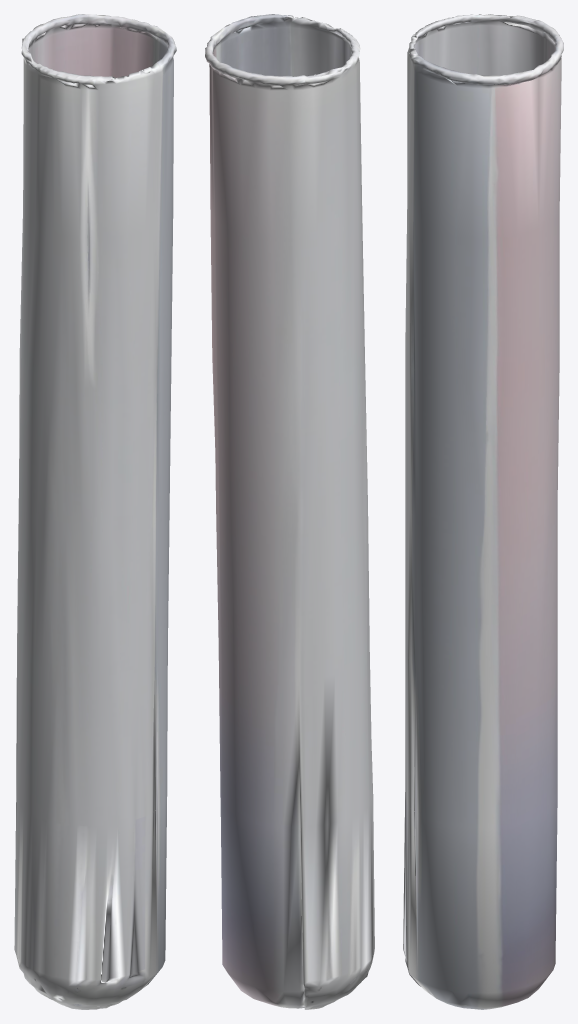
The model's file is sharp-pointed_glass_tubing_1778824304.glb.
3 views of the same model, side by side, from view 1: azimuth 30°, elevation 25°; view 2: azimuth 150°, elevation 25°; view 3: azimuth 270°, elevation 25° (orthographic).
Parts seen in each view (by area): view 1: tripo_node_88a2155e-dc40-4c22-8534-7c9bc1d95906; view 2: tripo_node_88a2155e-dc40-4c22-8534-7c9bc1d95906; view 3: tripo_node_88a2155e-dc40-4c22-8534-7c9bc1d95906.
Part boxes in pixels (left/top/right/bottom): tripo_node_88a2155e-dc40-4c22-8534-7c9bc1d95906: left=14, top=14, right=176, bottom=1009; tripo_node_88a2155e-dc40-4c22-8534-7c9bc1d95906: left=205, top=14, right=374, bottom=1009; tripo_node_88a2155e-dc40-4c22-8534-7c9bc1d95906: left=403, top=14, right=563, bottom=1009.
Size of the model in its own units: 0.1582 by 0.998 by 0.1504.
Materials: 1 (1 with a texture image).
